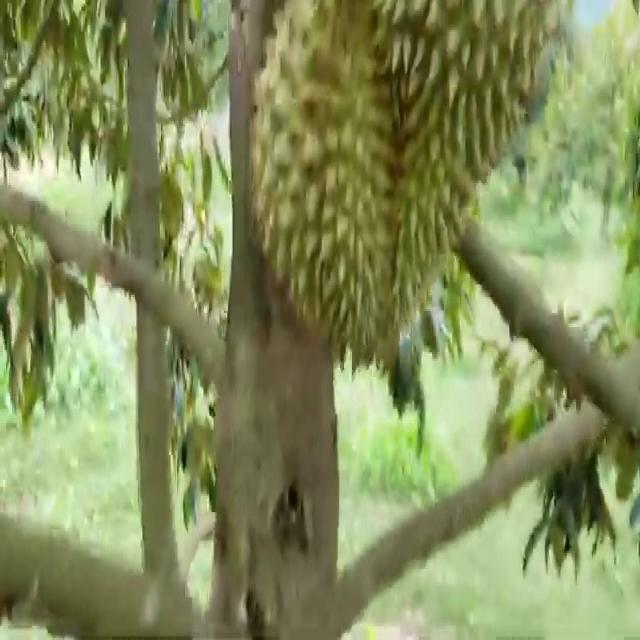durian: (246, 0, 564, 380)
